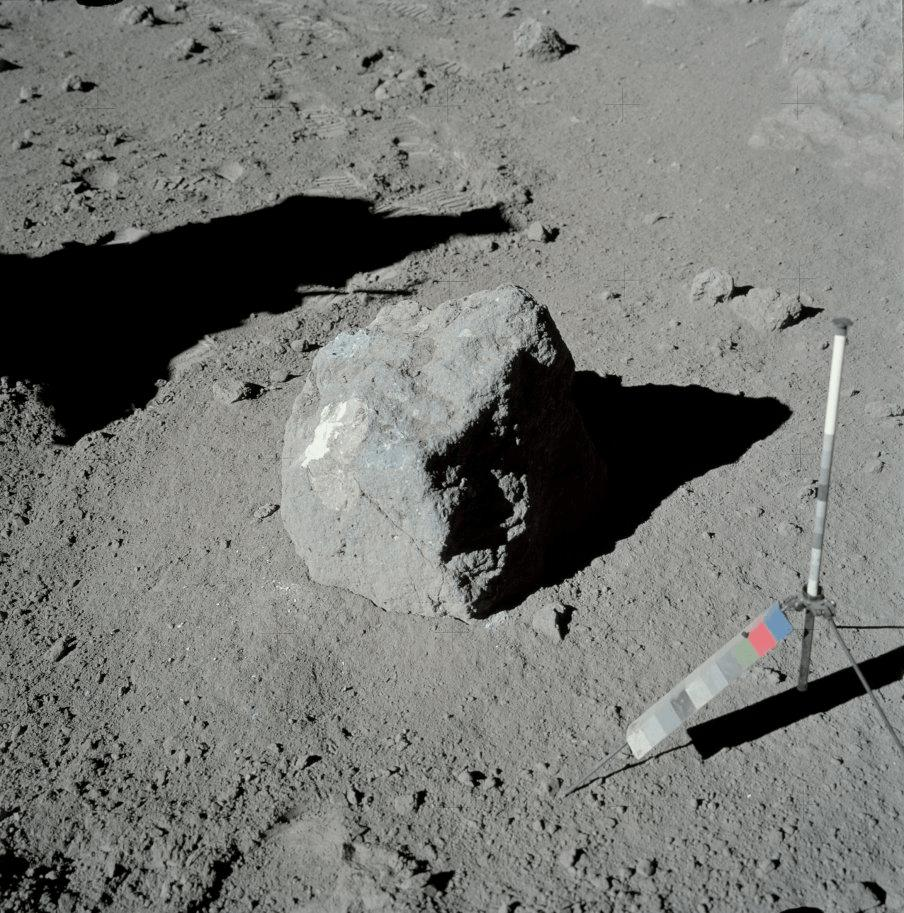rock: (282, 285, 605, 620)
